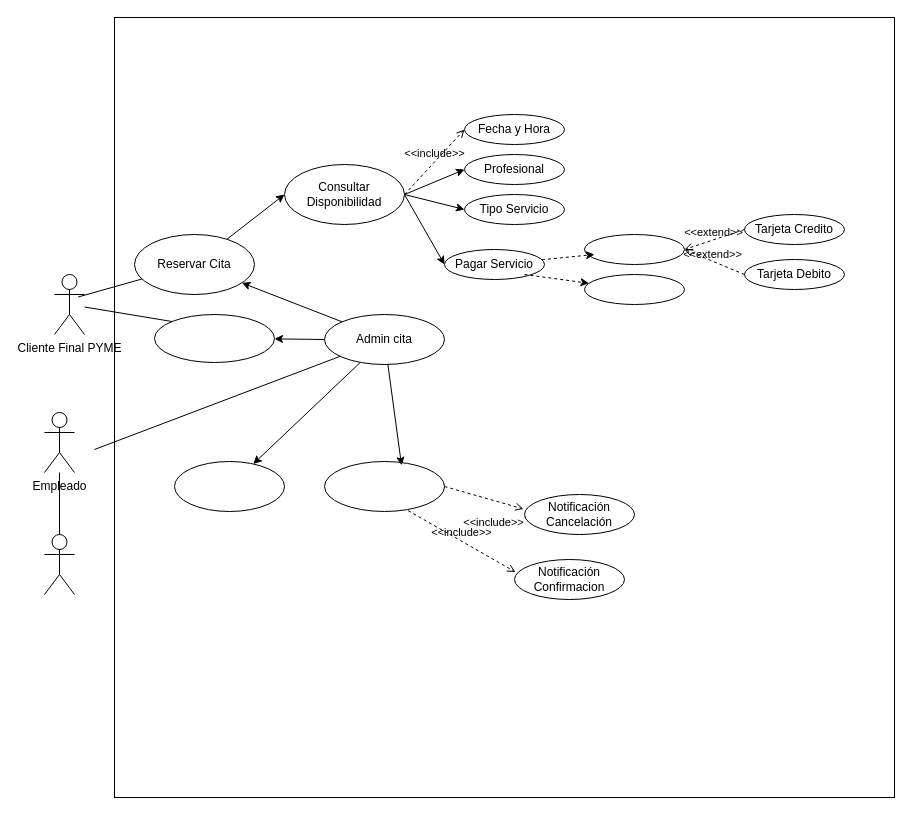
This 912x815 diagram has some shape labels left out. The shapes that lost their labels are listed below. From the top down, each one's centre as x and y in pixels, then its label:
the point at 634,249: Pago Web
the point at 634,289: Pago en Tienda
the point at 214,338: Recibir Notificación
the point at 229,486: Ver Citas
the point at 384,486: Emite Notificación Email
the point at 59,564: Dueño Negocio
